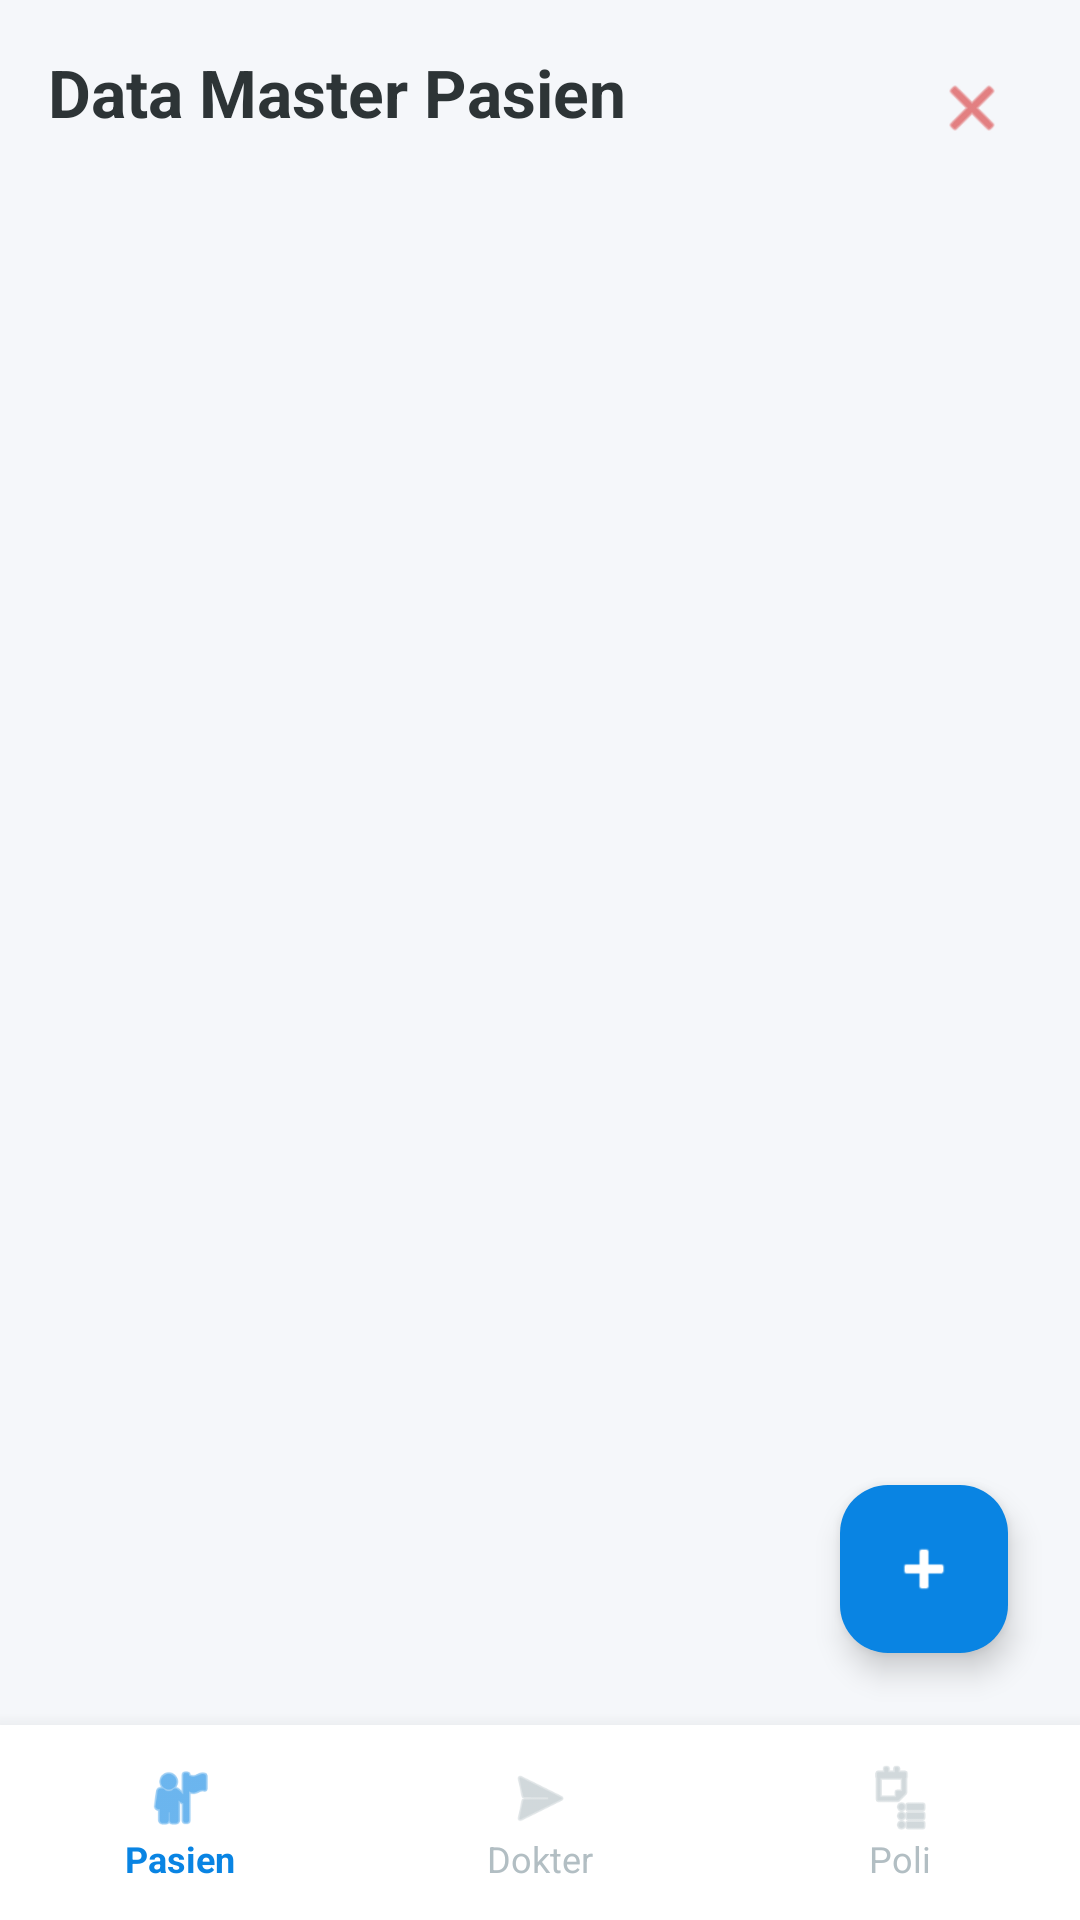

Icons on this 1080 x 1920 Android screen, each with the point to tap as (x,y):
add: (924,1569)
agenda: (900,1797)
close clear cancel: (972,108)
myplaces: (181,1798)
send: (540,1798)
